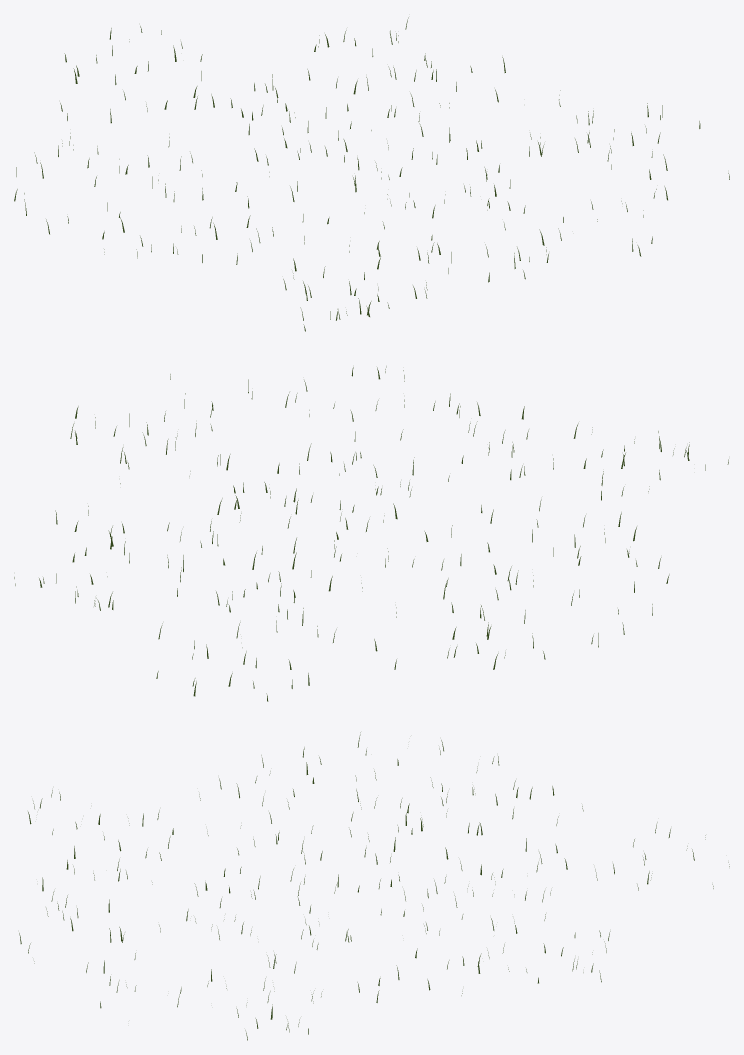
3 views of the same model, one above another, from view 1: azimuth 30°, elevation 25°; view 2: azimuth 150°, elevation 25°; view 3: azimuth 270°, elevation 25° (orthographic). The views are drawn at different scales.
Parts seen in each view (by area): view 1: GrassPatch; view 2: GrassPatch; view 3: GrassPatch.
Boxes of the visible parts, bbox=[...] form: GrassPatch: bbox=[14, 17, 729, 331]; GrassPatch: bbox=[14, 366, 728, 701]; GrassPatch: bbox=[19, 732, 729, 1040].
Bounding box in the file's own units: 17.17 × 0.4911 × 17.64.
